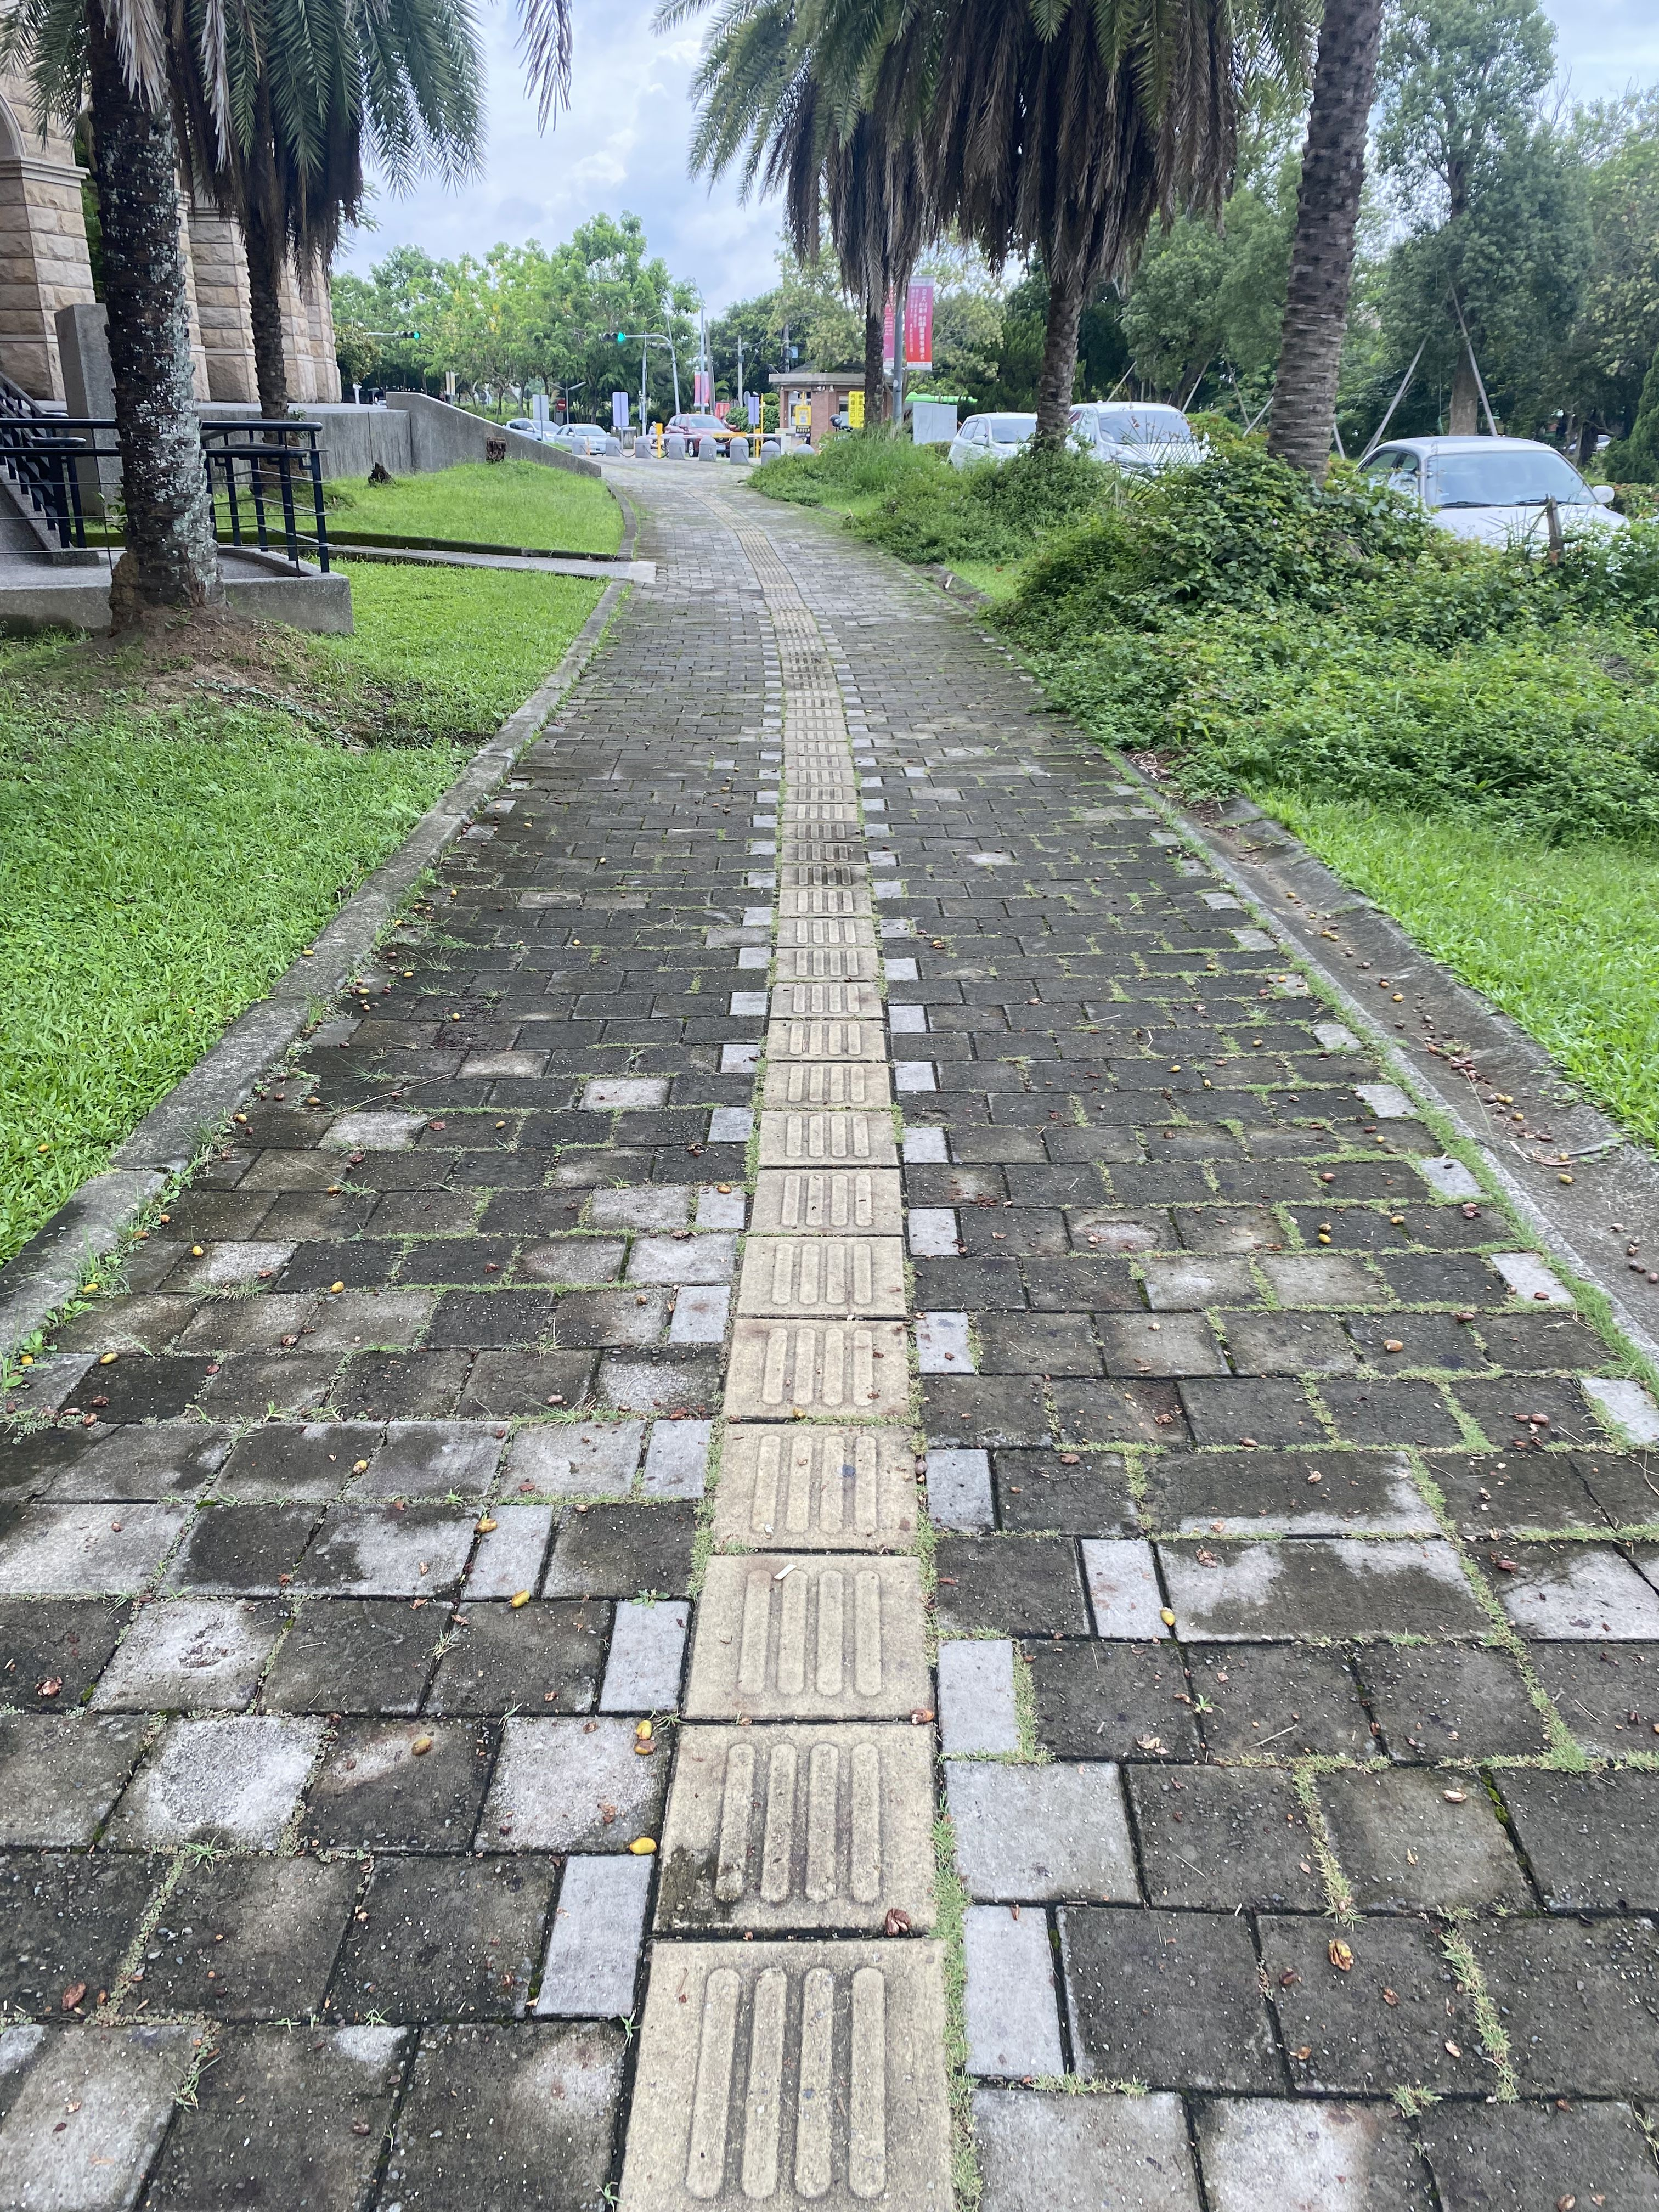0: (0, 707, 1659, 2212)
sidewalk: (568, 425, 1195, 1521)
